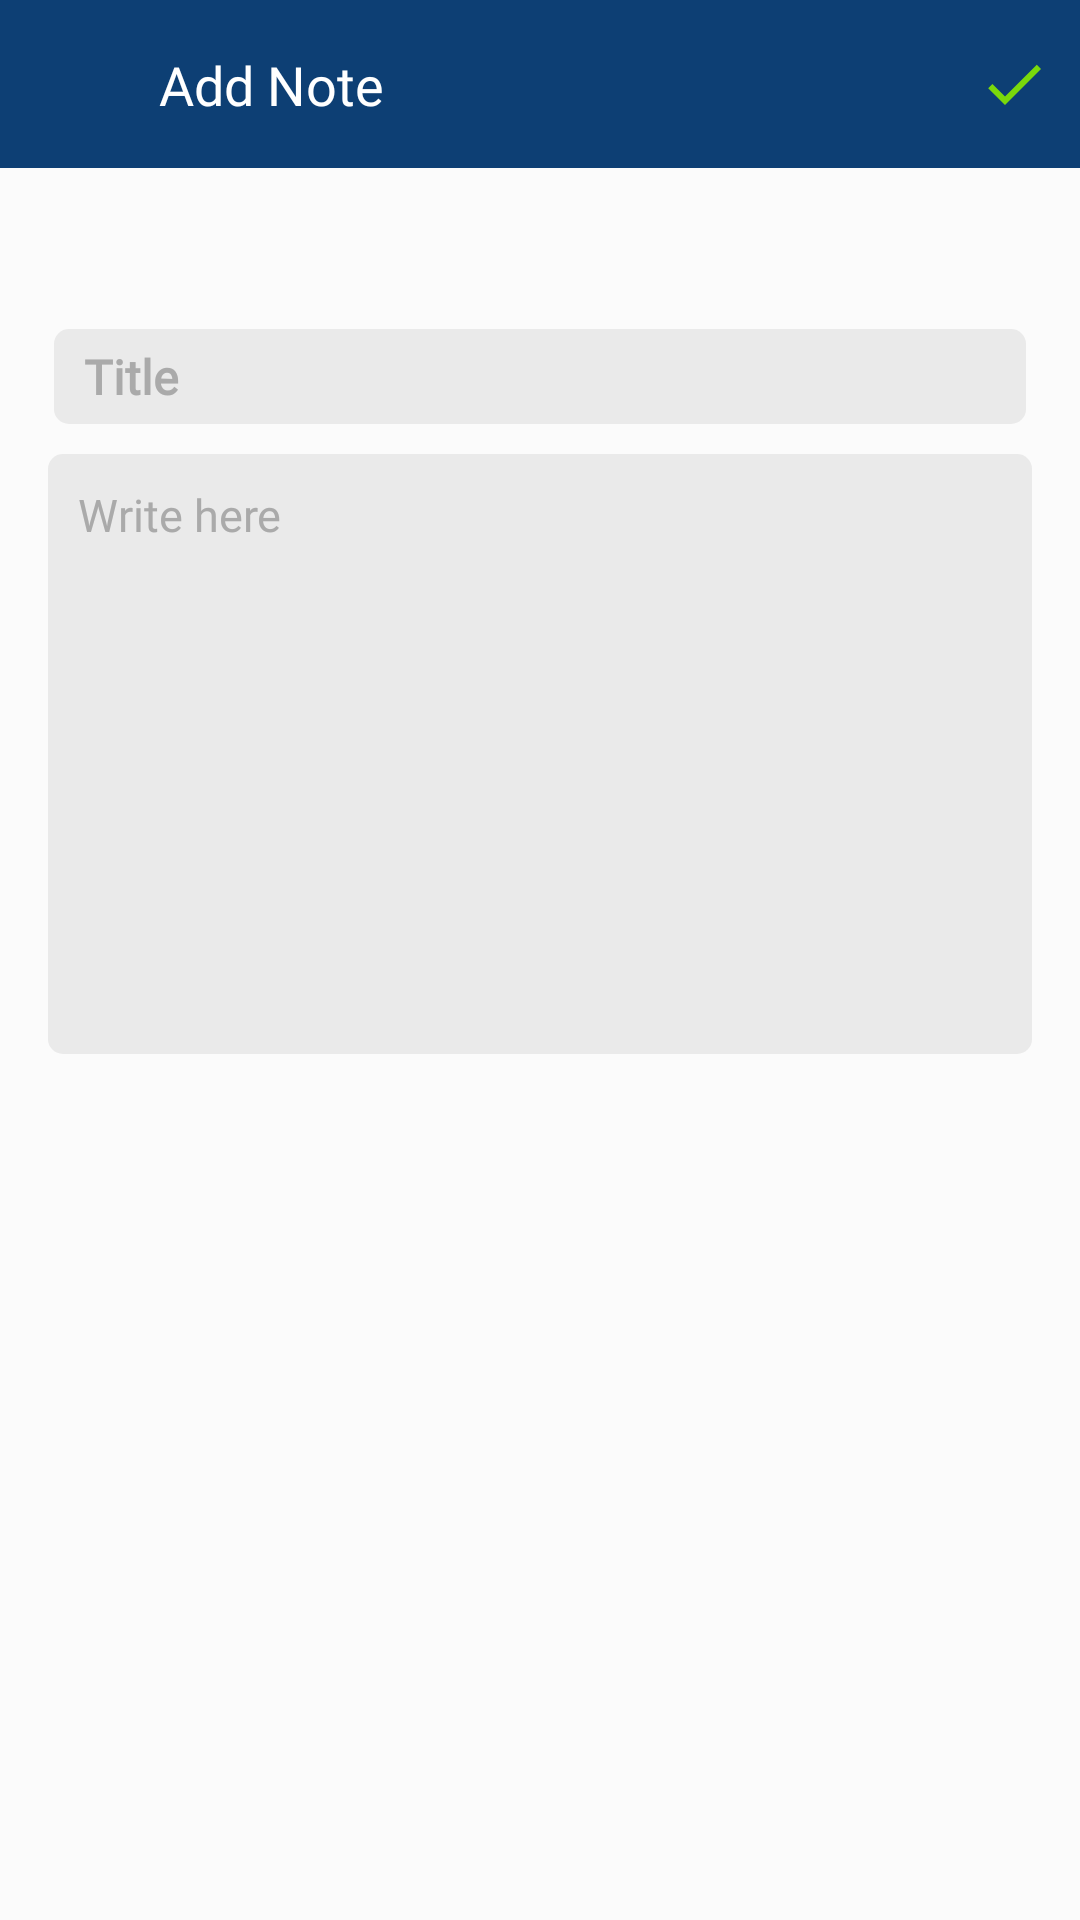

Icon bounding boxes for this 1080px×1920px phone screenshot, format [x1, y1, x2, y2]:
done: [988, 65, 1041, 105]
